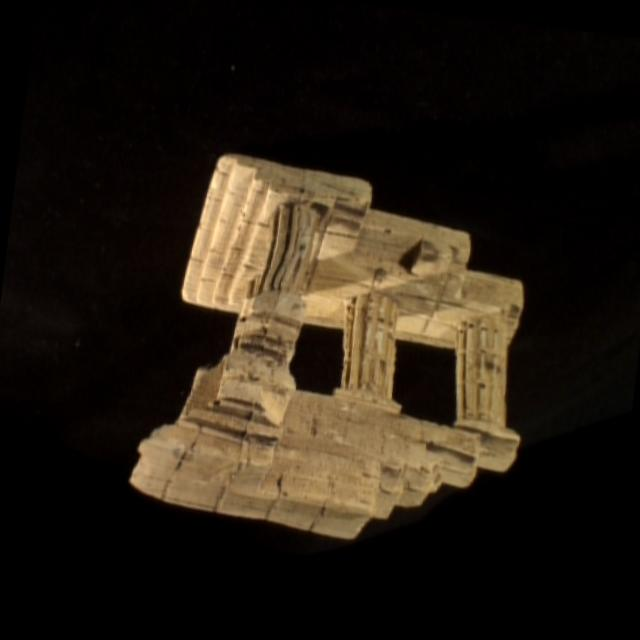Instance-Segmentation: (131, 154, 522, 538)
